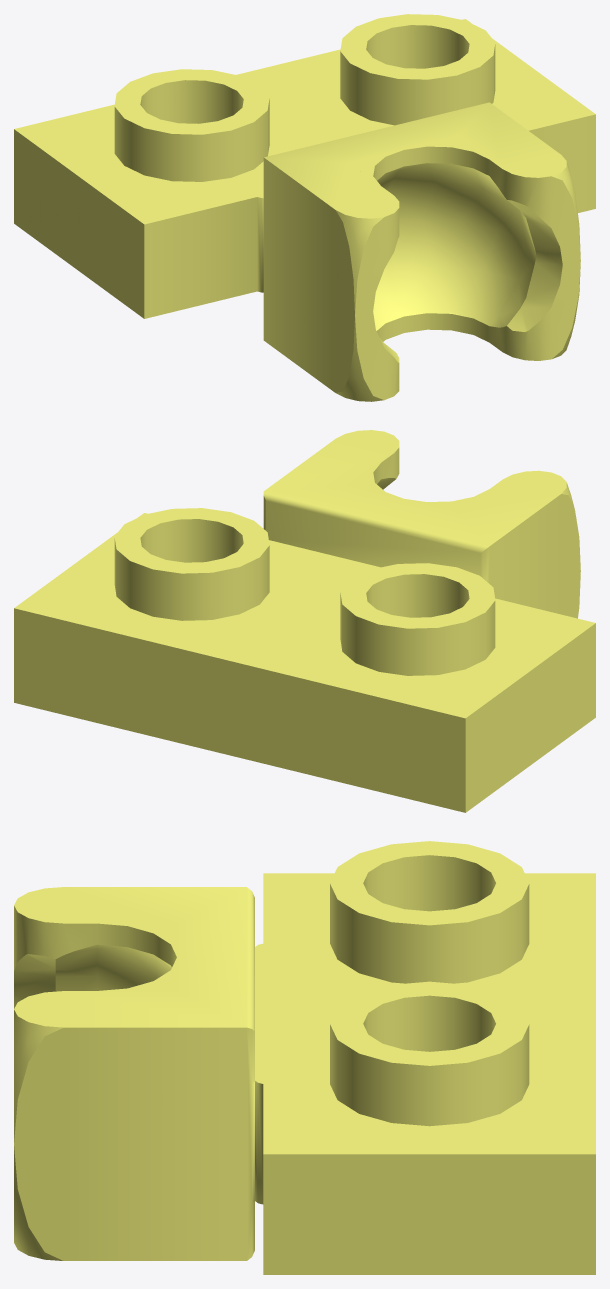
3 renders of one model, top to bottom at view 1: azimuth 30°, elevation 25°; view 2: azimuth 150°, elevation 25°; view 3: azimuth 270°, elevation 25°, orthographic. The views are drawn at different scales.
Visible parts, largest first — view 1: 14704.dat; view 2: 14704.dat; view 3: 14704.dat.
Part boxes in pixels (x1,y1,x2,y2): 14704.dat: (14,14,595,401); 14704.dat: (14,430,595,812); 14704.dat: (14,841,595,1274).
Size of the model in its own units: 0.016 by 0.0063 by 0.014.
